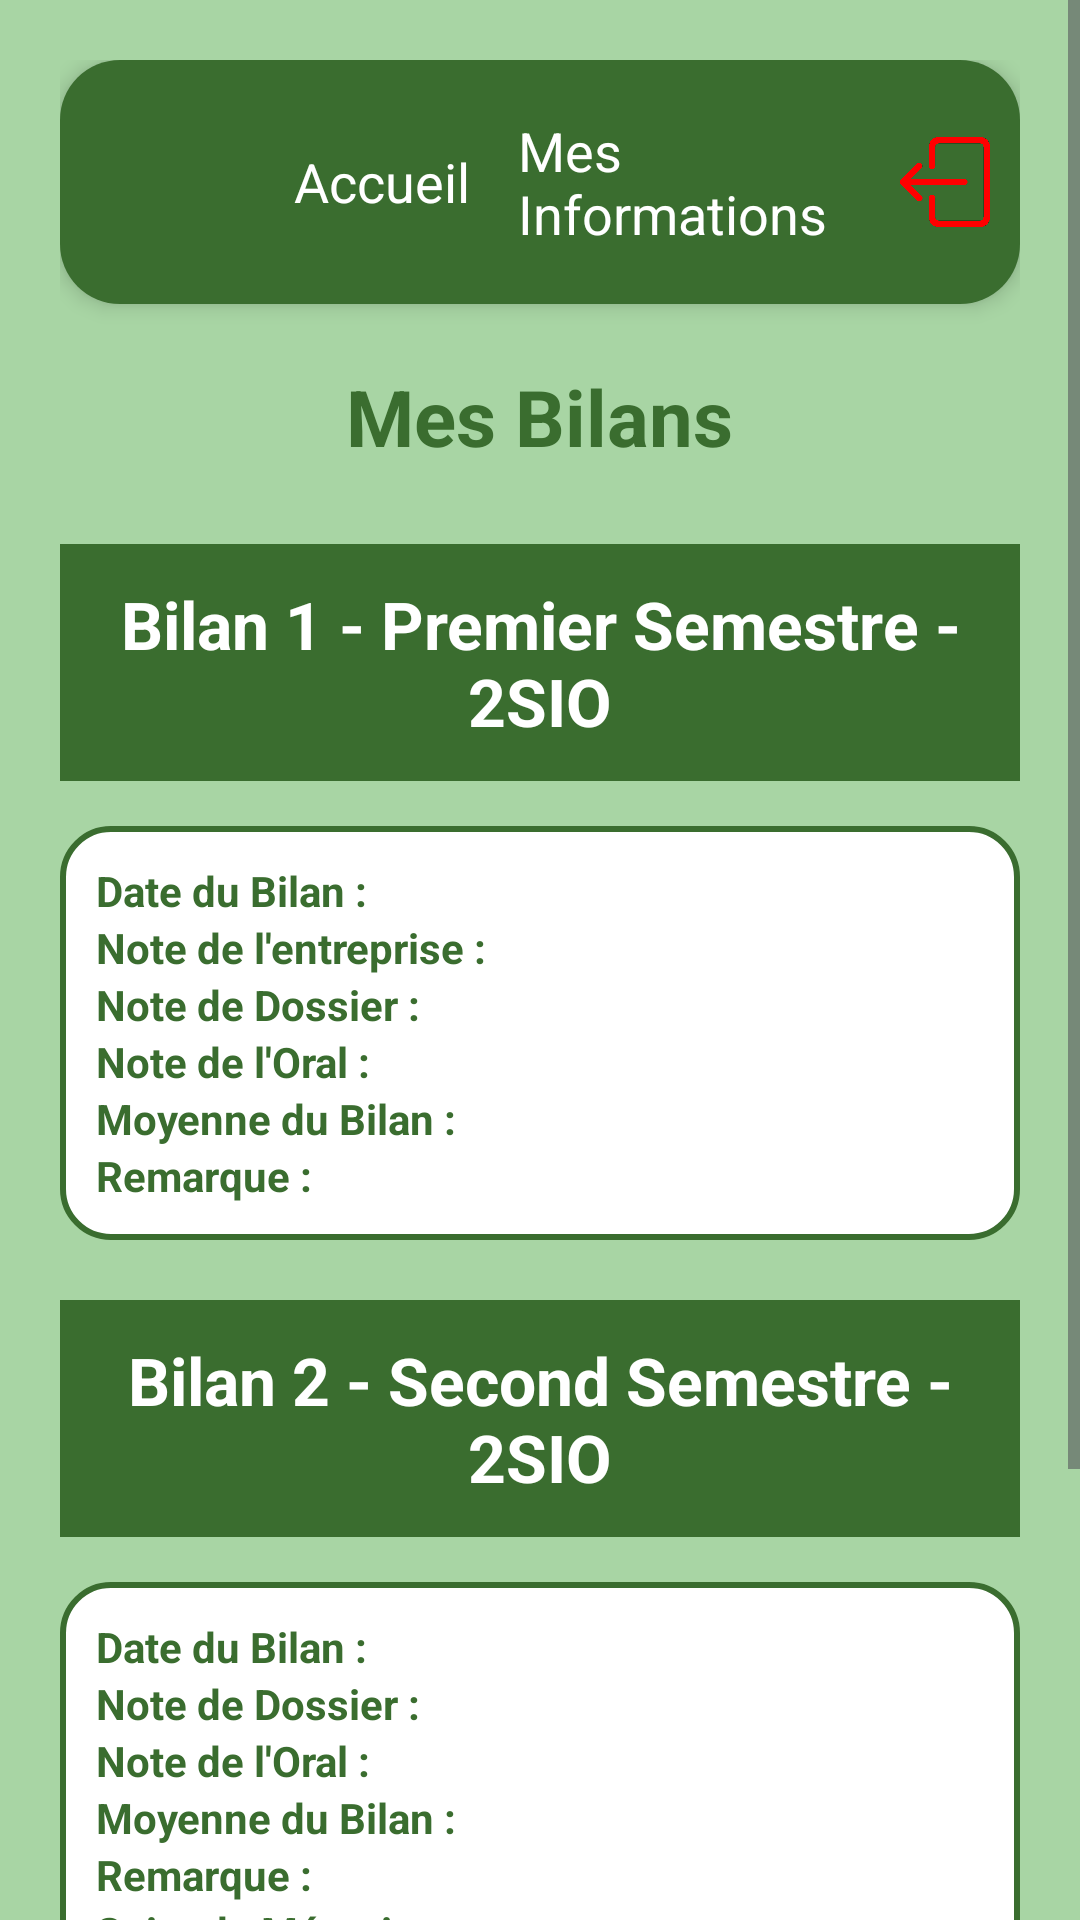

Locate icon controls on the screen. Image size 1080×1920, boxes as BBox(x1, y1, x2, y2).
deco: BBox(900, 137, 990, 227)
